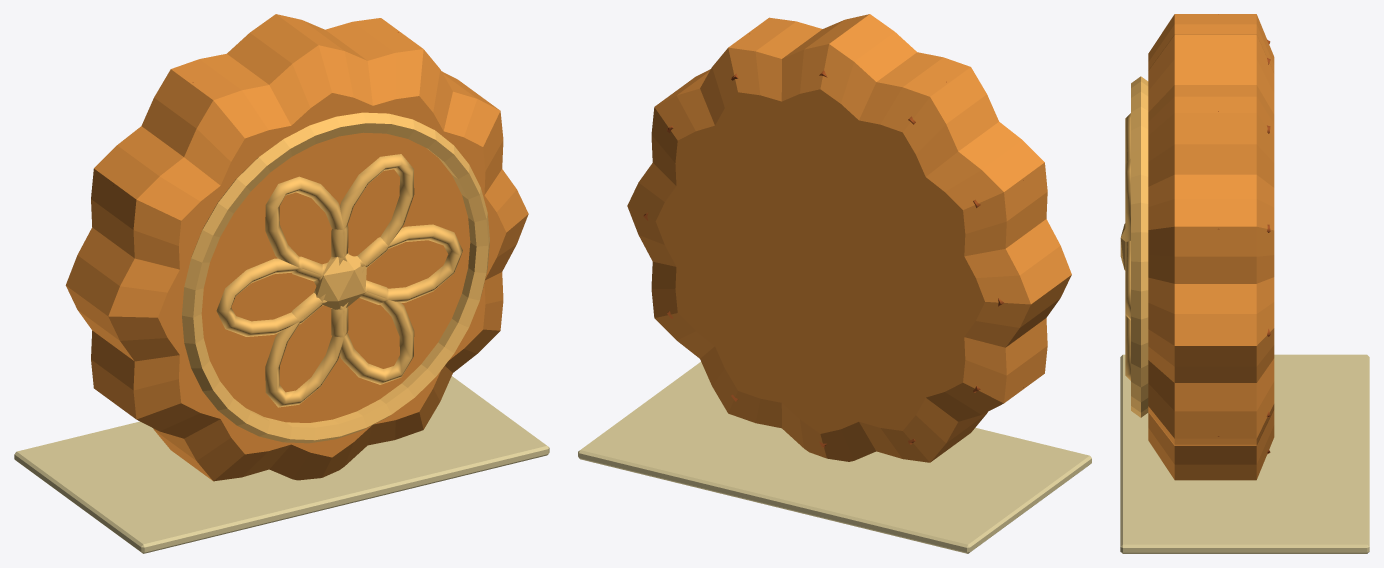
Rendered from mooncake.obj.
3 views of the same model, side by side, from view 1: azimuth 30°, elevation 25°; view 2: azimuth 150°, elevation 25°; view 3: azimuth 270°, elevation 25° (orthographic). The views are drawn at different scales.
Parts seen in each view (by area): view 1: A_ScallopedPastry.001_mooncake_honey_crust, F_ParchmentRest.001_mooncake_parchment, B_EmbossedBorder.001_mooncake_raised_pastry, C_RaisedFlowerPetal2.001_mooncake_raised_pastry, C_RaisedFlowerPetal3.001_mooncake_raised_pastry, C_RaisedFlowerPetal1.001_mooncake_raised_pastry, C_RaisedFlowerPetal4.001_mooncake_raised_pastry, C_RaisedFlowerPetal5.001_mooncake_raised_pastry, C_RaisedFlowerPetal0.001_mooncake_raised_pastry, D_SealCenter.001_mooncake_raised_pastry; view 2: A_ScallopedPastry.001_mooncake_honey_crust, F_ParchmentRest.001_mooncake_parchment; view 3: A_ScallopedPastry.001_mooncake_honey_crust, F_ParchmentRest.001_mooncake_parchment, B_EmbossedBorder.001_mooncake_raised_pastry, C_RaisedFlowerPetal1.001_mooncake_raised_pastry, C_RaisedFlowerPetal0.001_mooncake_raised_pastry, C_RaisedFlowerPetal5.001_mooncake_raised_pastry.
Part boxes in pixels (left/top/right/bottom): A_ScallopedPastry.001_mooncake_honey_crust: left=65, top=14, right=528, bottom=481; F_ParchmentRest.001_mooncake_parchment: left=14, top=376, right=549, bottom=553; B_EmbossedBorder.001_mooncake_raised_pastry: left=182, top=112, right=489, bottom=443; C_RaisedFlowerPetal2.001_mooncake_raised_pastry: left=265, top=176, right=348, bottom=281; C_RaisedFlowerPetal3.001_mooncake_raised_pastry: left=216, top=256, right=325, bottom=336; C_RaisedFlowerPetal1.001_mooncake_raised_pastry: left=331, top=154, right=414, bottom=267; C_RaisedFlowerPetal4.001_mooncake_raised_pastry: left=265, top=293, right=348, bottom=407; C_RaisedFlowerPetal5.001_mooncake_raised_pastry: left=331, top=280, right=414, bottom=384; C_RaisedFlowerPetal0.001_mooncake_raised_pastry: left=357, top=224, right=462, bottom=304; D_SealCenter.001_mooncake_raised_pastry: left=316, top=254, right=366, bottom=309; A_ScallopedPastry.001_mooncake_honey_crust: left=627, top=14, right=1071, bottom=462; F_ParchmentRest.001_mooncake_parchment: left=578, top=362, right=1091, bottom=553; A_ScallopedPastry.001_mooncake_honey_crust: left=1148, top=14, right=1274, bottom=480; F_ParchmentRest.001_mooncake_parchment: left=1120, top=354, right=1369, bottom=553; B_EmbossedBorder.001_mooncake_raised_pastry: left=1131, top=76, right=1148, bottom=417; C_RaisedFlowerPetal1.001_mooncake_raised_pastry: left=1125, top=159, right=1130, bottom=241; C_RaisedFlowerPetal0.001_mooncake_raised_pastry: left=1125, top=241, right=1130, bottom=320; C_RaisedFlowerPetal5.001_mooncake_raised_pastry: left=1125, top=315, right=1130, bottom=380.
Bounding box in the file's own units: 1.6 × 1.6 × 0.85.
